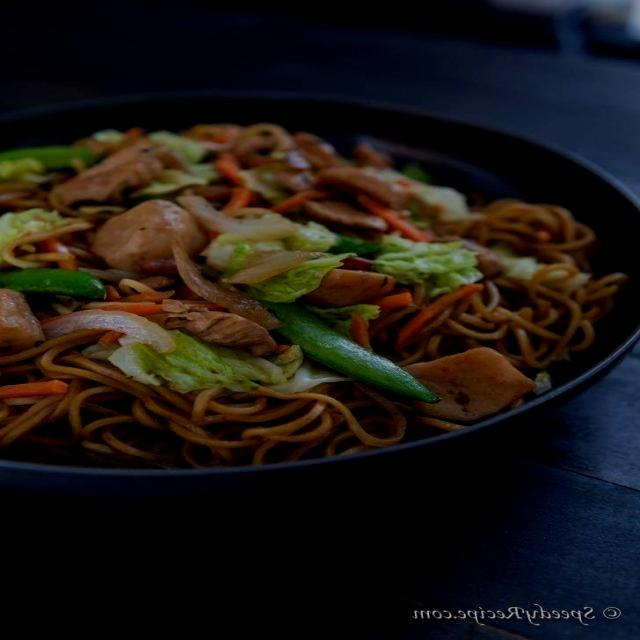pancit bihon: (0, 133, 608, 465)
